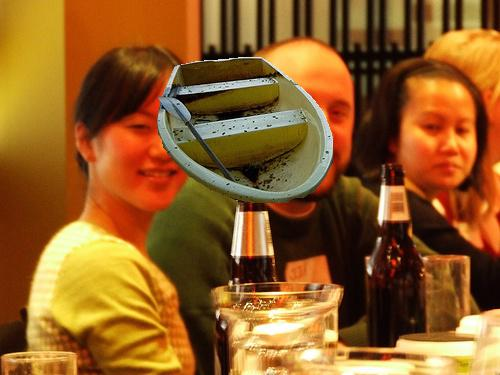tampered: (158, 58, 333, 203)
